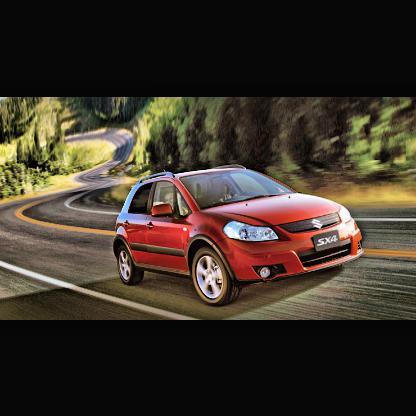Suzuki SX4 Hatchback 2012: (113, 164, 368, 309)
